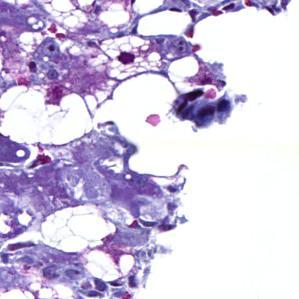ballooning: (4, 83, 93, 146), (39, 203, 119, 256), (96, 33, 163, 81)
